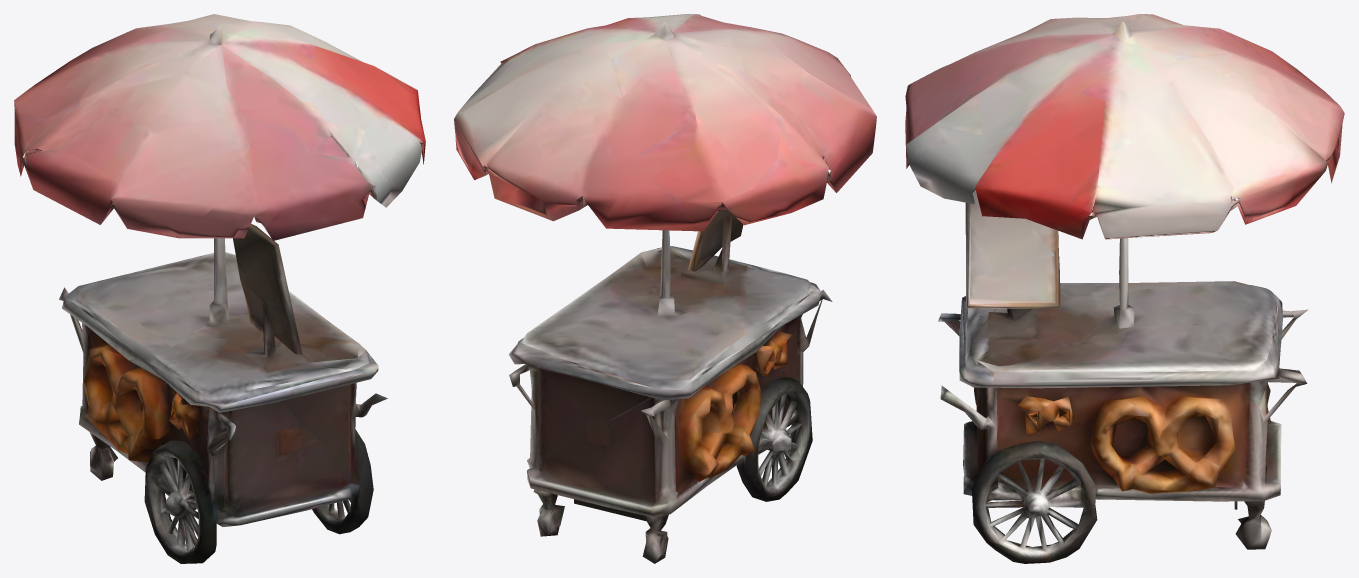
File: park-cart.glb
3 views of the same model, side by side, from view 1: azimuth 30°, elevation 25°; view 2: azimuth 150°, elevation 25°; view 3: azimuth 270°, elevation 25° (orthographic). The views are drawn at different scales.
Visible parts, largest first — view 1: tripo_node_a831df73-be84-44a8-b5bc-b5cfd583e46a; view 2: tripo_node_a831df73-be84-44a8-b5bc-b5cfd583e46a; view 3: tripo_node_a831df73-be84-44a8-b5bc-b5cfd583e46a.
Boxes of the visible parts, left/top/right/bottom form: tripo_node_a831df73-be84-44a8-b5bc-b5cfd583e46a: left=14, top=14, right=425, bottom=563; tripo_node_a831df73-be84-44a8-b5bc-b5cfd583e46a: left=454, top=14, right=876, bottom=563; tripo_node_a831df73-be84-44a8-b5bc-b5cfd583e46a: left=905, top=14, right=1344, bottom=563.
Bounding box in the file's own units: 0.7776 × 1 × 0.7888.
Materials: 1 (1 with a texture image).
